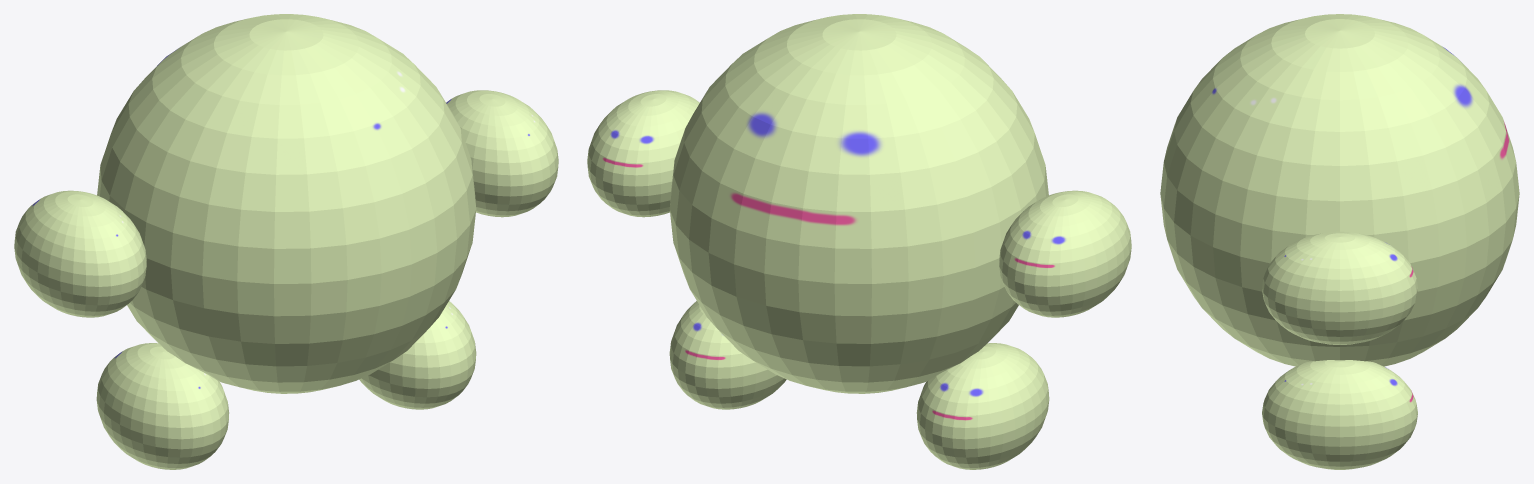
The model's file is blob-v5.glb.
3 views of the same model, side by side, from view 1: azimuth 30°, elevation 25°; view 2: azimuth 150°, elevation 25°; view 3: azimuth 270°, elevation 25° (orthographic). The views are drawn at different scales.
Parts seen in each view (by area): view 1: Blob; view 2: Blob; view 3: Blob.
Boxes of the visible parts, x1,y1,x2,y2 form: Blob: (14, 14, 558, 469); Blob: (587, 14, 1131, 469); Blob: (1160, 14, 1519, 469).
Size of the model in its own units: 3.13 by 2.32 by 2.
Materials: 1 (1 with a texture image).
